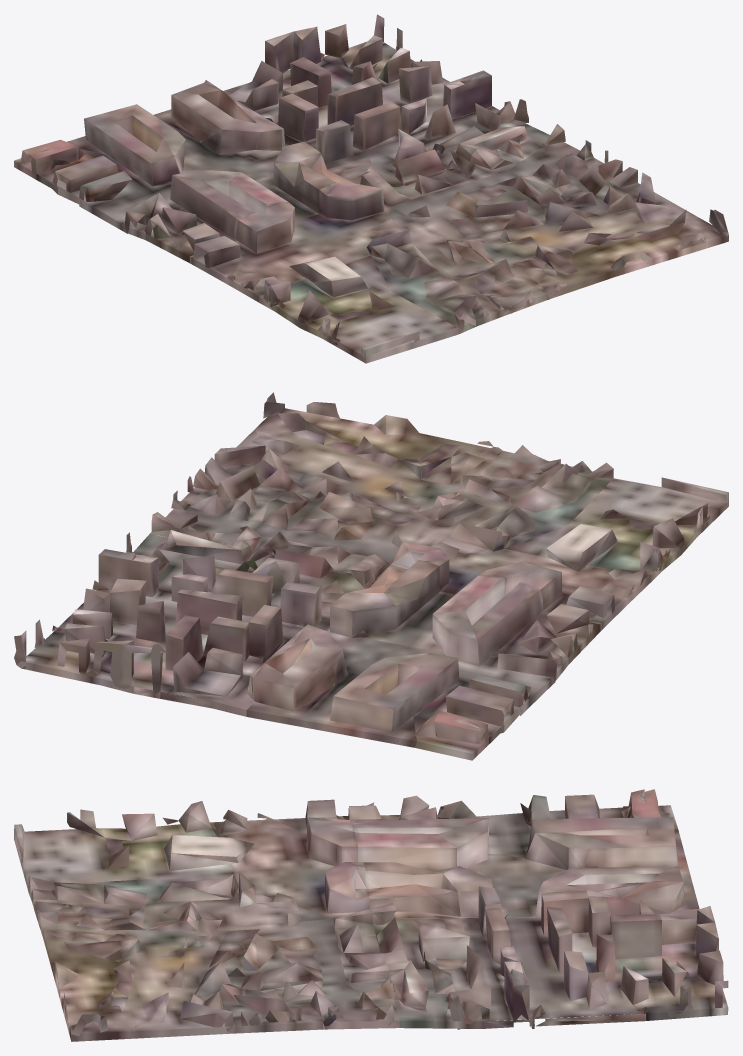
The picture shows the model from 3 angles, top to bottom: view 1: azimuth 30°, elevation 25°; view 2: azimuth 150°, elevation 25°; view 3: azimuth 270°, elevation 25°; orthographic projection. The views are drawn at different scales.
Parts seen in each view (by area): view 1: Mesh_0; view 2: Mesh_0; view 3: Mesh_0.
Boxes of the visible parts, x1,y1,x2,y2 form: Mesh_0: [14, 14, 728, 363]; Mesh_0: [14, 392, 728, 760]; Mesh_0: [14, 789, 728, 1041].
Bounding box in the file's own units: 532 × 64.44 × 660.
Materials: 2 (2 with a texture image).
